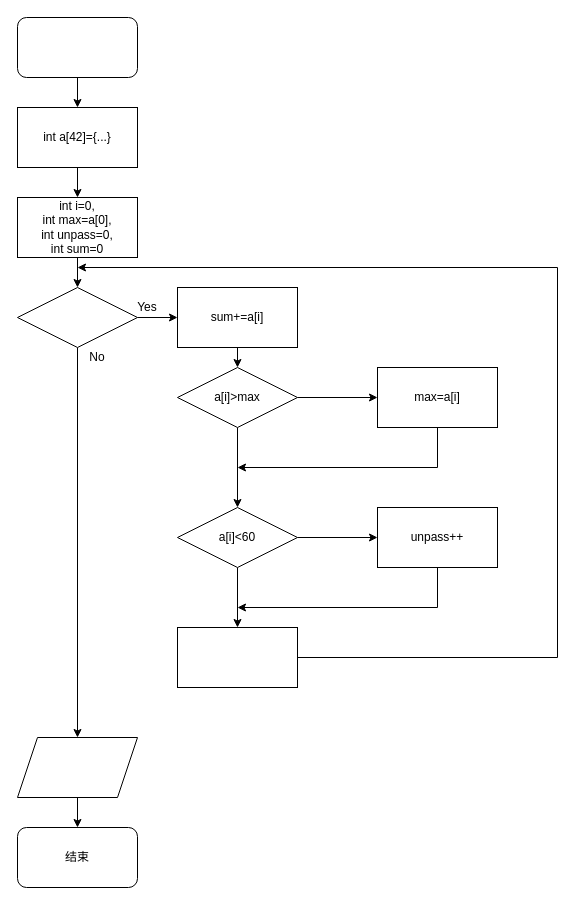
This 583x905 diagram has some shape labels left out. Here are the shapes that lost their labels. From the top down, the box of each, then its label:
(16, 16, 138, 78): 开始
(16, 286, 138, 348): i<42
(176, 626, 298, 688): i++
(16, 736, 138, 798): cout<<max<< endl<<sum/42.0 <<endl<<unpass;
